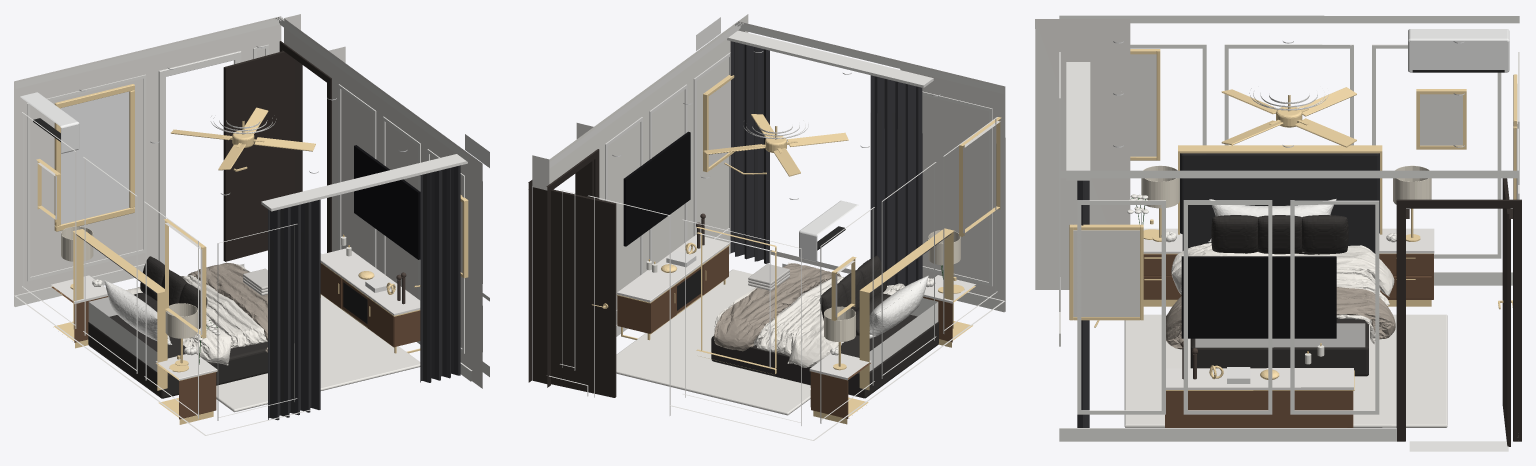
Rendered from MASTER.glb.
3 views of the same model, side by side, from view 1: azimuth 30°, elevation 25°; view 2: azimuth 150°, elevation 25°; view 3: azimuth 270°, elevation 25° (orthographic). The views are drawn at different scales.
Parts seen in each view (by area): view 1: WEB_MASTER; view 2: WEB_MASTER; view 3: WEB_MASTER.
Part boxes in pixels (x1,y1,x2,y2): WEB_MASTER: [14, 14, 489, 435]; WEB_MASTER: [528, 14, 1005, 440]; WEB_MASTER: [1035, 15, 1521, 451].
Size of the model in its own units: 3.35 by 2.5 by 4.07.
